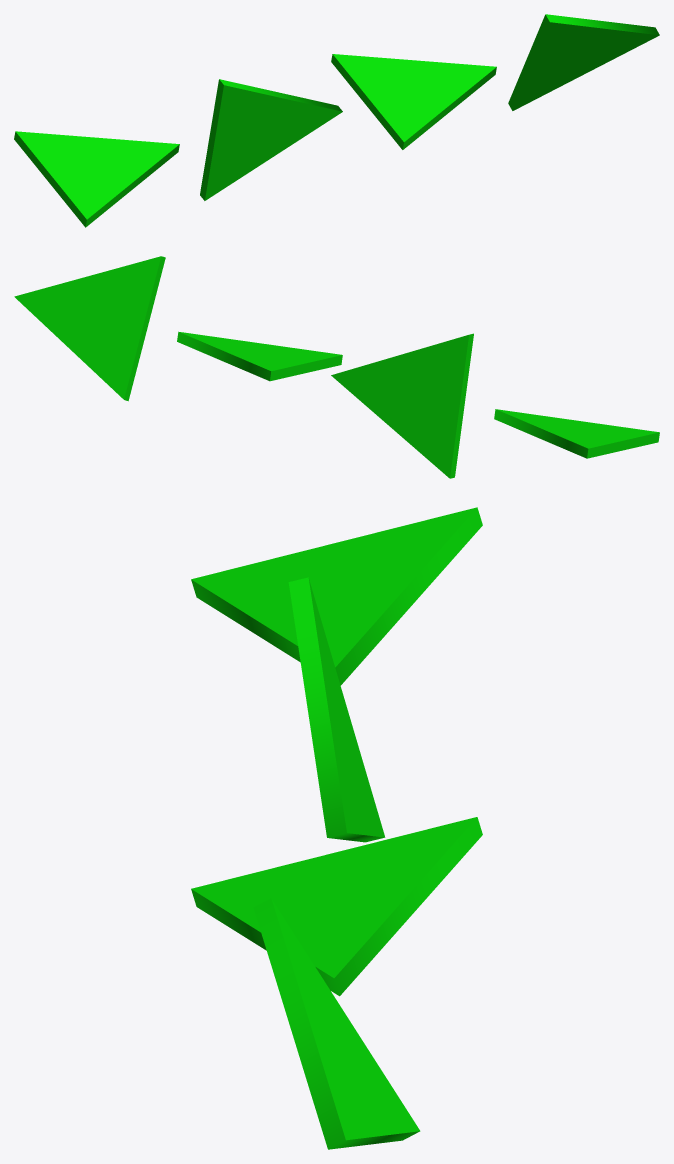
File: flechas.fbx
3 renders of one model, top to bottom at view 1: azimuth 30°, elevation 25°; view 2: azimuth 150°, elevation 25°; view 3: azimuth 270°, elevation 25°, orthographic. The views are drawn at different scales.
Parts seen in each view (by area): view 1: polySurface1; view 2: polySurface1; view 3: polySurface1.
Boxes of the visible parts, box(x1,y1,x2,y2) form: polySurface1: box(14, 14, 659, 227); polySurface1: box(14, 256, 659, 478); polySurface1: box(191, 507, 482, 1149).
Bounding box in the file's own units: 8.86 × 1.85 × 1.84.
